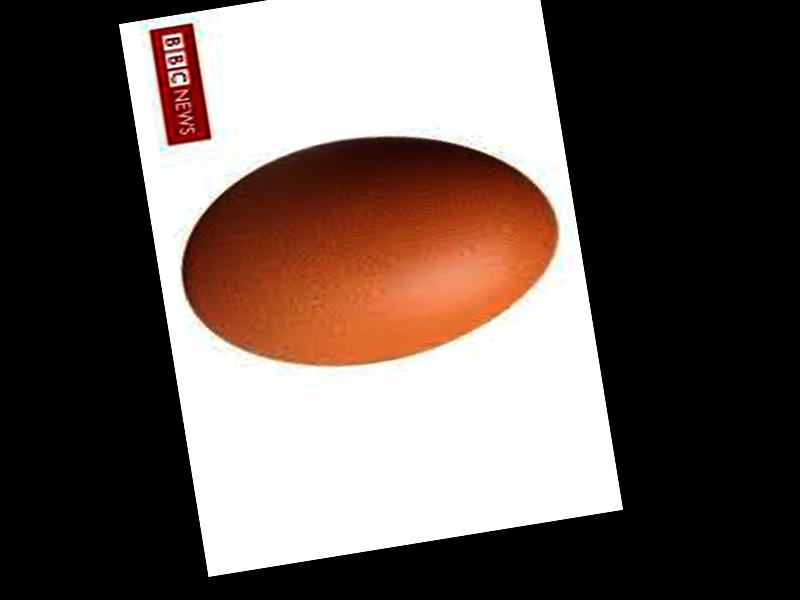Eggs: (167, 110, 571, 390)
